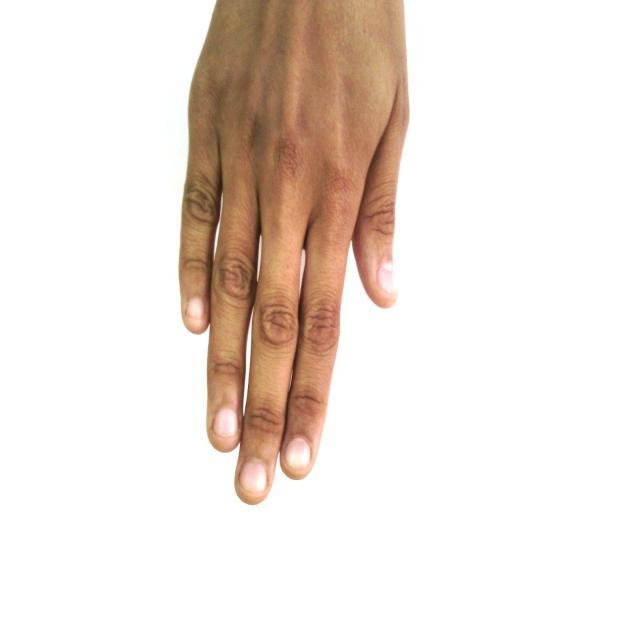Fingernail: (241, 461, 266, 492), (285, 439, 309, 469), (215, 410, 237, 437), (186, 298, 204, 327), (379, 263, 396, 293)
